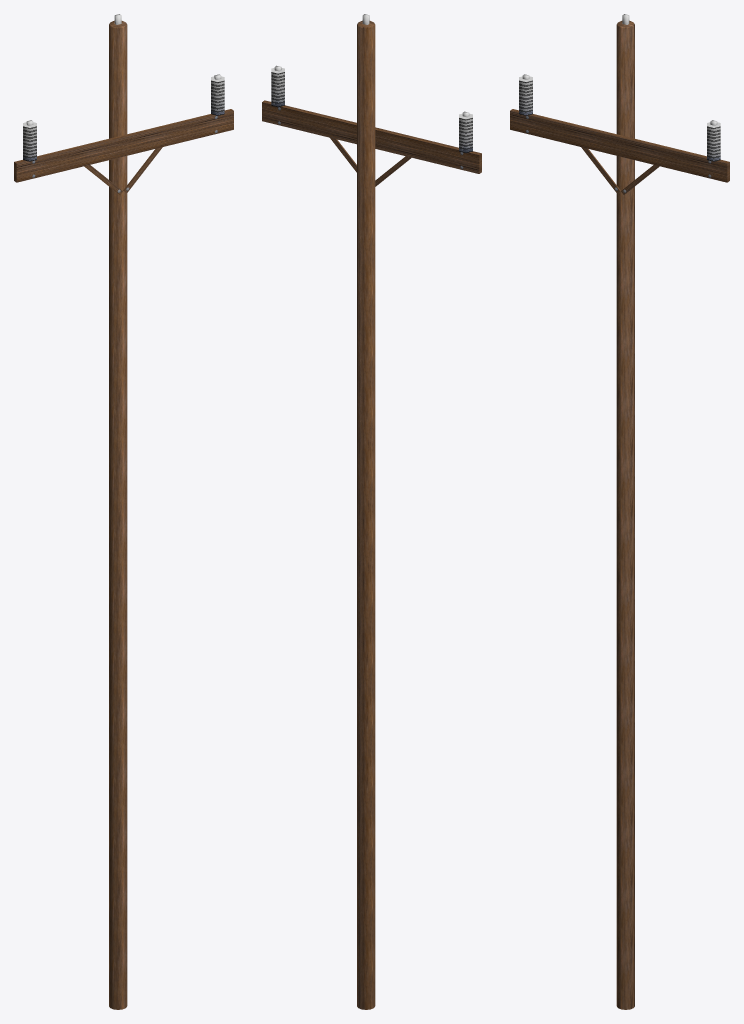
The model's file is telephone_pole.dae.
The picture shows the model from 3 angles, left to right: view 1: azimuth 30°, elevation 25°; view 2: azimuth 150°, elevation 25°; view 3: azimuth 330°, elevation 25°; orthographic projection.
Parts seen in each view (by area): view 1: Telephone_Pole; view 2: Telephone_Pole; view 3: Telephone_Pole.
Part boxes in pixels (x1,y1,x2,y2): Telephone_Pole: (14,14,233,1009); Telephone_Pole: (262,14,481,1009); Telephone_Pole: (510,14,729,1009).
Size of the model in its own units: 83.31 by 9.25 by 363.
